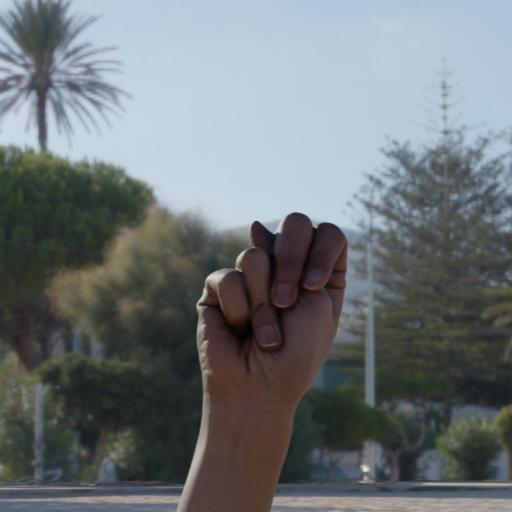N: (179, 201, 361, 481)
